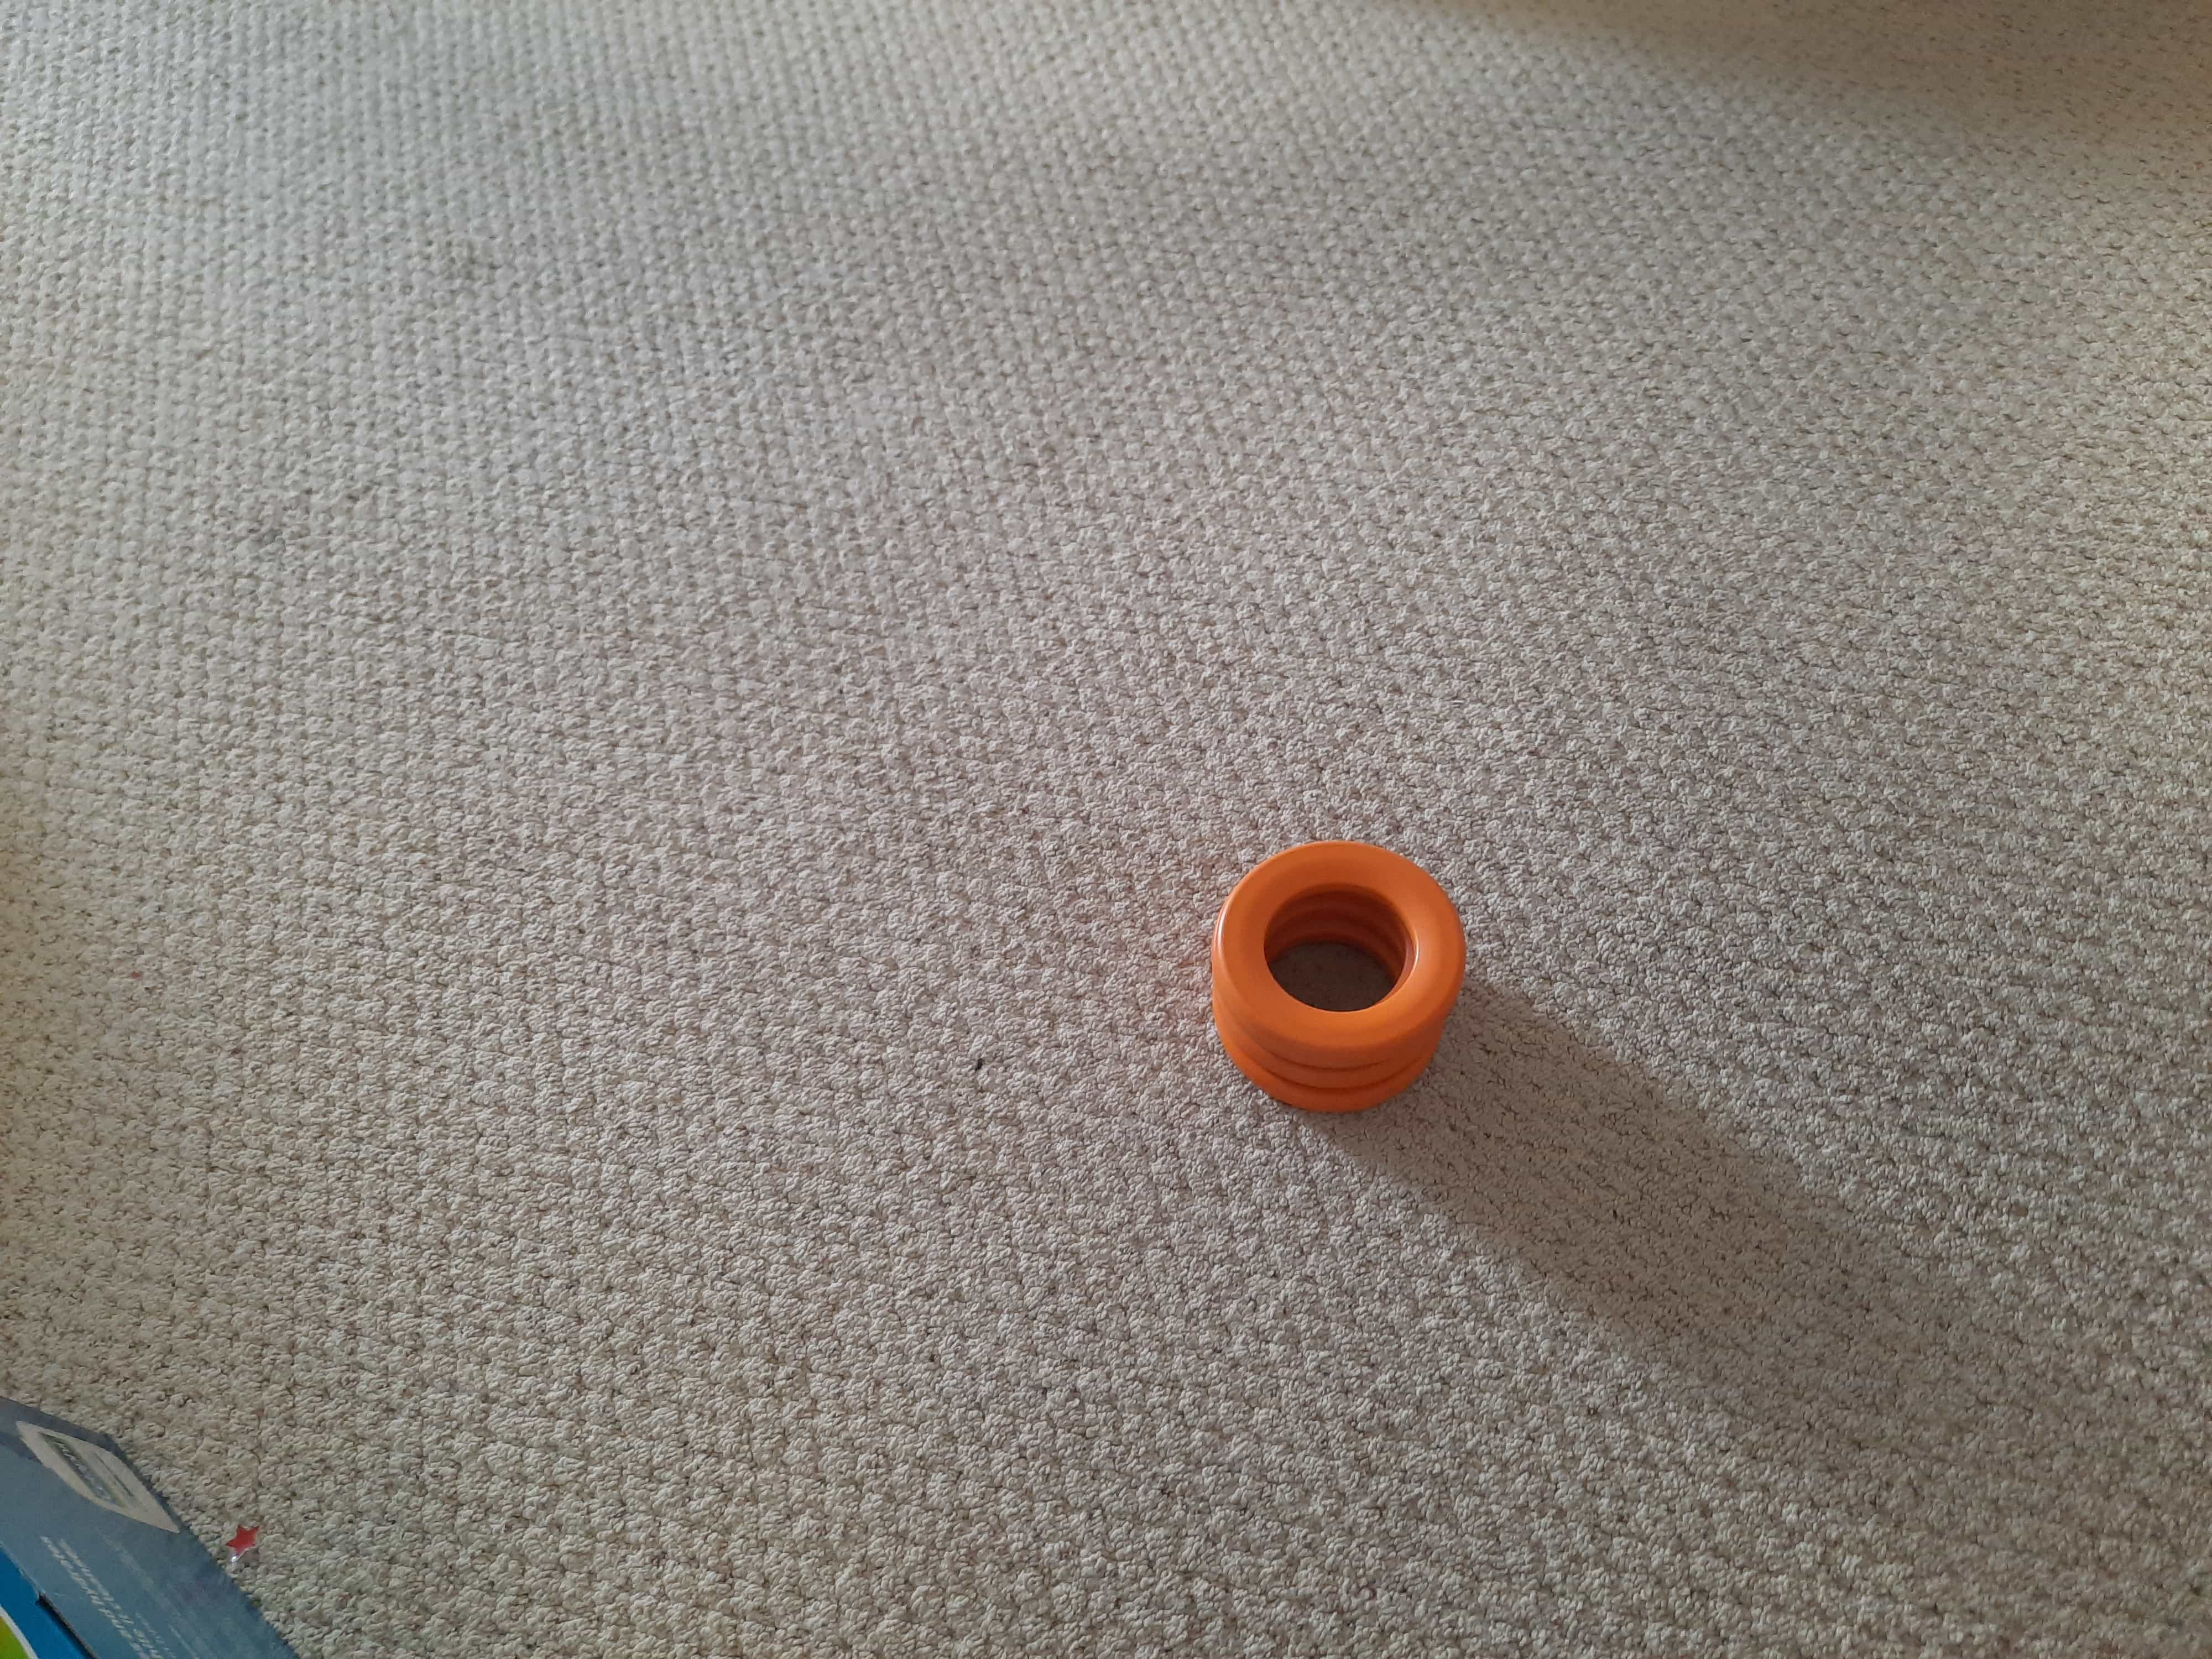FourStack: (1207, 842, 1463, 1105)
